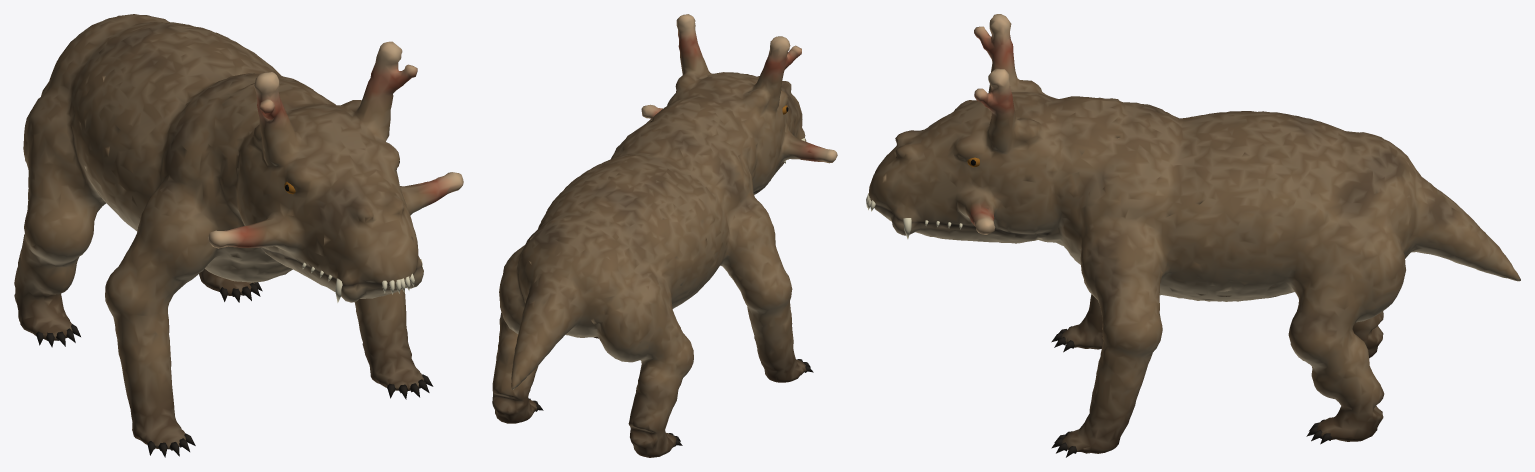
File: EstemmenosuchusMirabilis.fbx
The picture shows the model from 3 angles, left to right: view 1: azimuth 30°, elevation 25°; view 2: azimuth 150°, elevation 25°; view 3: azimuth 270°, elevation 25°; orthographic projection. The views are drawn at different scales.
Visible parts, largest first — view 1: EstemmenosuchusMirabilis; view 2: EstemmenosuchusMirabilis; view 3: EstemmenosuchusMirabilis.
Part boxes in pixels (x1,y1,x2,y2): EstemmenosuchusMirabilis: [14, 14, 463, 457]; EstemmenosuchusMirabilis: [492, 14, 837, 457]; EstemmenosuchusMirabilis: [866, 14, 1520, 457].
Bounding box in the file's own units: 0.7817 × 1.01 × 1.68.
